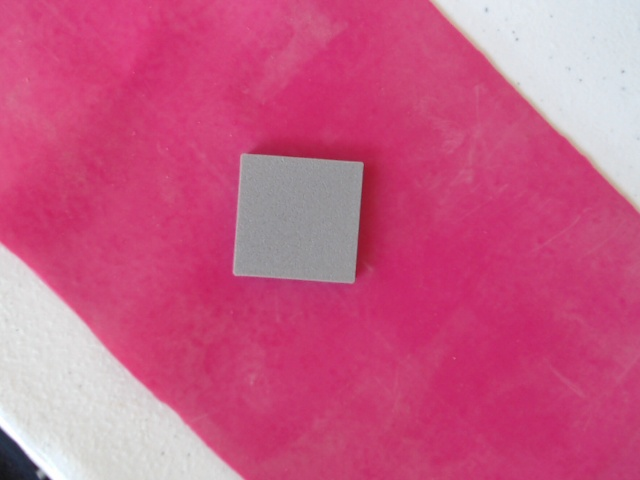Defective: (228, 149, 367, 293)
